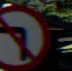Don't turn left: (0, 1, 55, 67)
